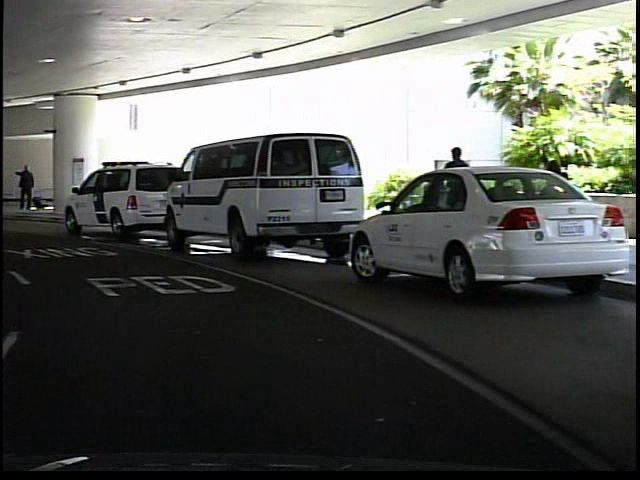person: (436, 142, 468, 251), (11, 155, 38, 215)
